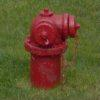Hydrant: (23, 3, 85, 87)
